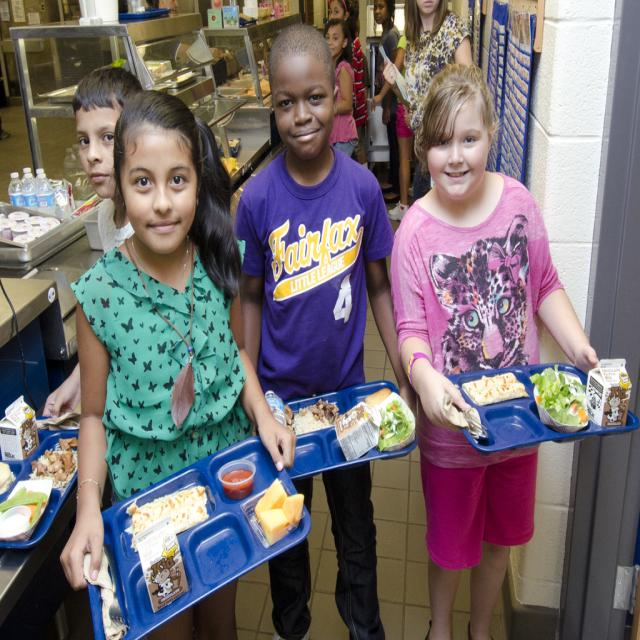no_helmet: (111, 140, 200, 240), (260, 81, 348, 180), (420, 106, 496, 206), (52, 122, 126, 200)
